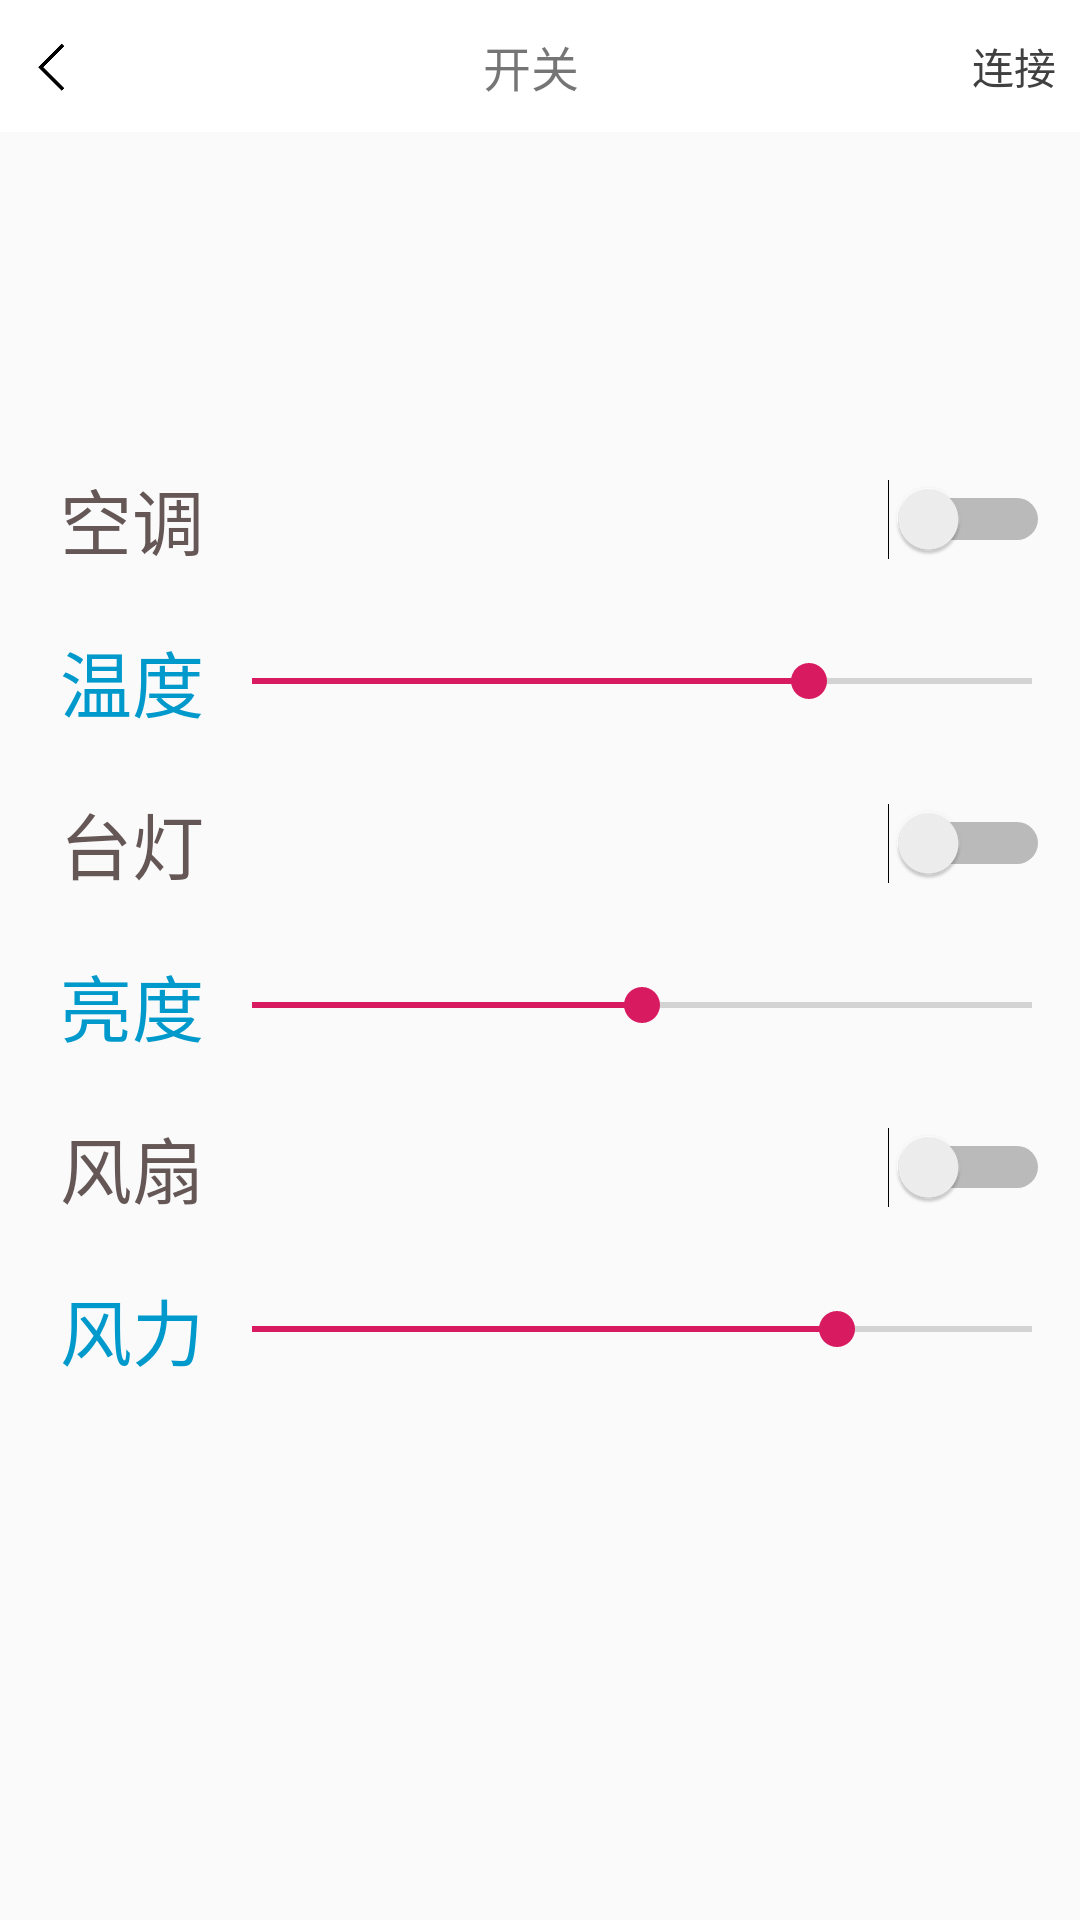

Locate icon controls on the screen. Image size 1080 × 1920, boxes as (x1, y1, x2, y2).
fanhui: (38, 44, 64, 91)
